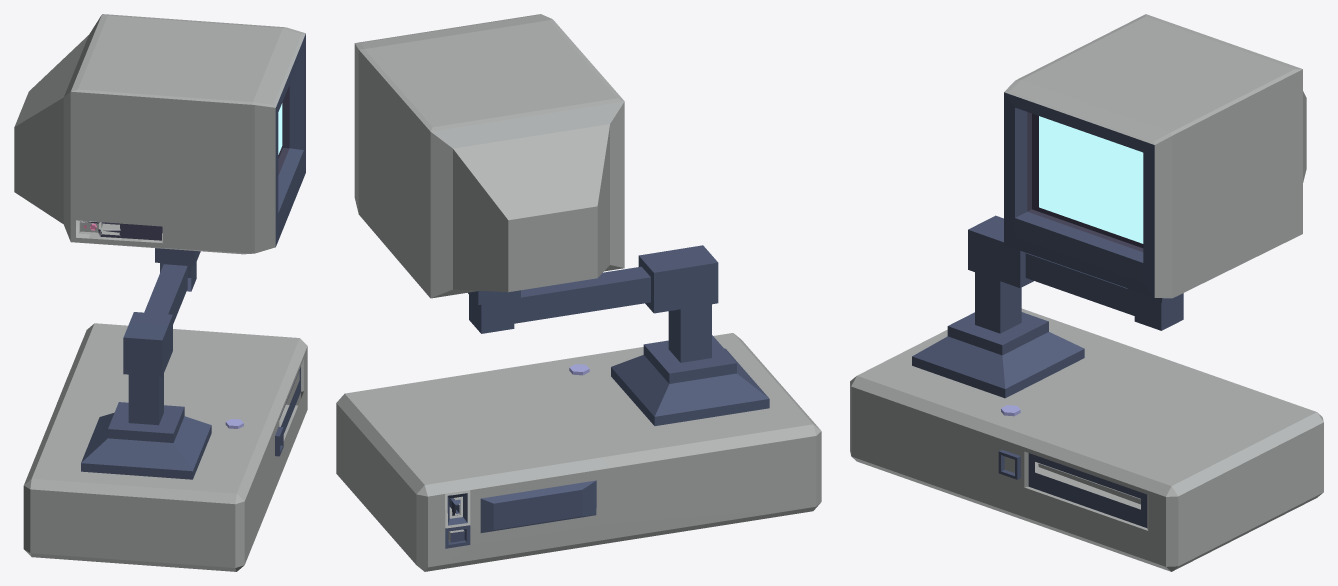
3 renders of one model, left to right at view 1: azimuth 30°, elevation 25°; view 2: azimuth 150°, elevation 25°; view 3: azimuth 270°, elevation 25°, orthographic. The views are drawn at different scales.
Parts seen in each view (by area): view 1: monitor 1, keyboard 1; view 2: monitor 1, keyboard 1; view 3: monitor 1, keyboard 1.
Boxes of the visible parts, x1=… form: monitor 1: x1=14, y1=14, x2=305, y2=479; keyboard 1: x1=23, y1=323, x2=307, y2=571; monitor 1: x1=354, y1=14, x2=769, y2=425; keyboard 1: x1=336, y1=333, x2=821, y2=571; monitor 1: x1=912, y1=14, x2=1306, y2=398; keyboard 1: x1=850, y1=308, x2=1323, y2=571.
Size of the model in its own units: 513 by 540 by 539.
